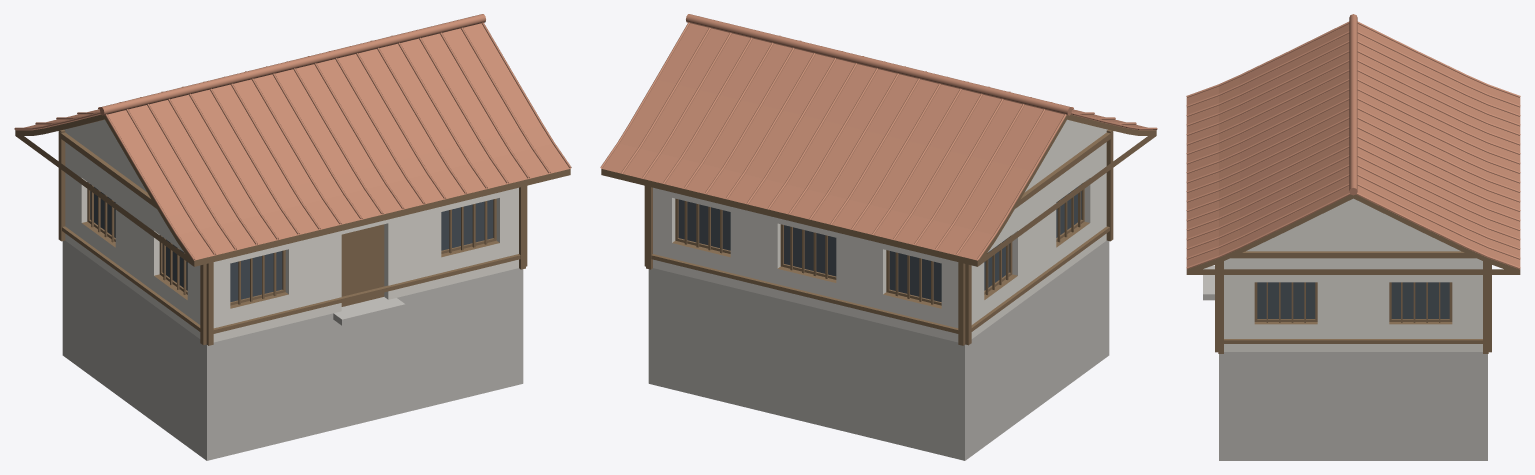
Rendered from japanese_house_1_s.glb.
3 views of the same model, side by side, from view 1: azimuth 30°, elevation 25°; view 2: azimuth 150°, elevation 25°; view 3: azimuth 270°, elevation 25° (orthographic). The views are drawn at different scales.
Visible parts, largest first — view 1: japanese_house_1_s; view 2: japanese_house_1_s; view 3: japanese_house_1_s.
Boxes of the visible parts, bbox=[...] form: japanese_house_1_s: bbox=[14, 14, 571, 460]; japanese_house_1_s: bbox=[600, 14, 1157, 460]; japanese_house_1_s: bbox=[1186, 14, 1520, 460].
Bounding box in the file's own units: 11.46 × 8.86 × 9.33.
